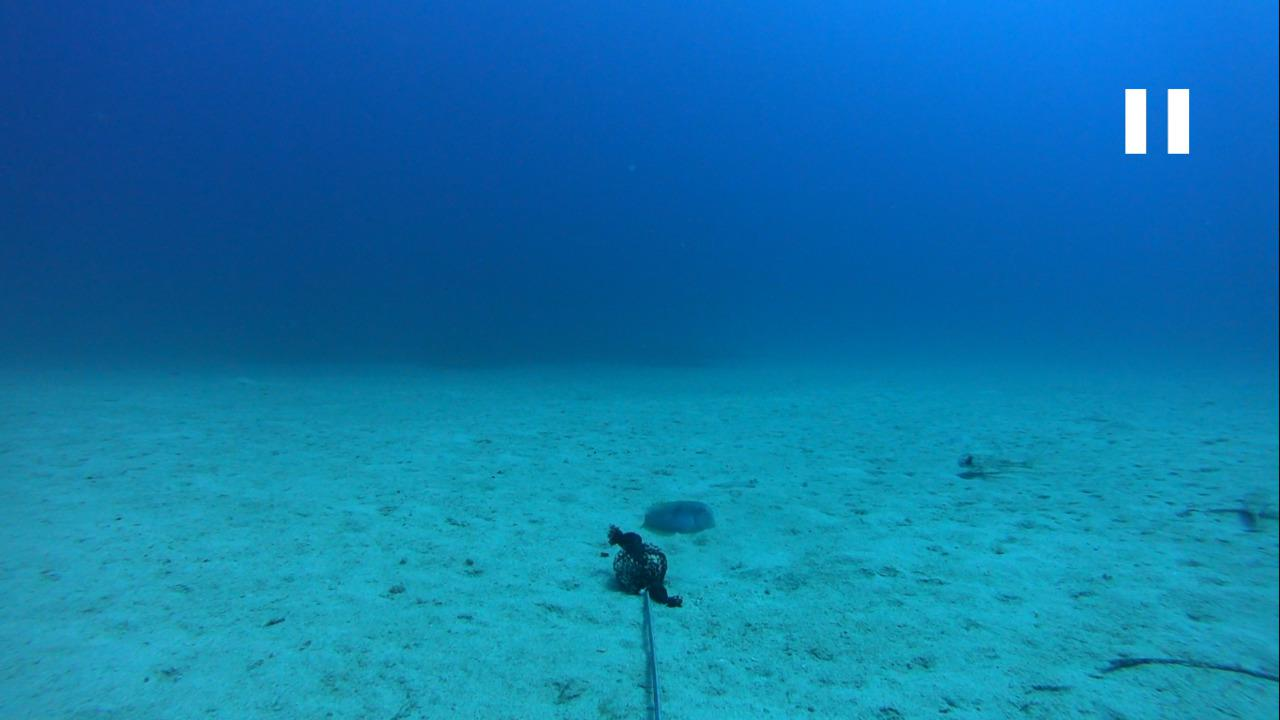bothus: (702, 474, 762, 492)
dactylopterus: (947, 446, 1043, 482), (1204, 487, 1279, 526)
raor: (636, 492, 720, 539)
